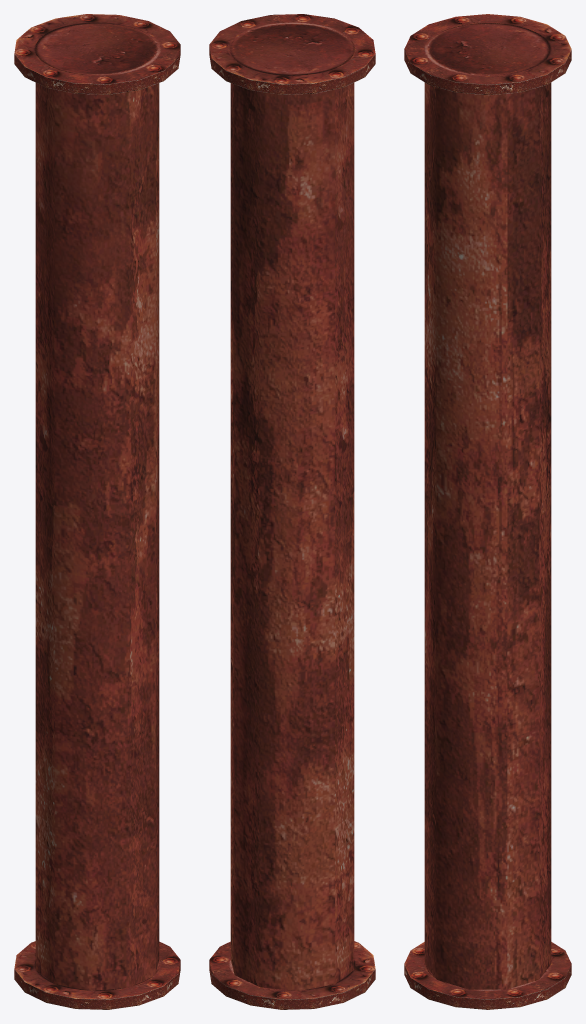
The model's file is 4m_red.DAE.
3 renders of one model, left to right at view 1: azimuth 30°, elevation 25°; view 2: azimuth 150°, elevation 25°; view 3: azimuth 270°, elevation 25°, orthographic.
Parts seen in each view (by area): view 1: Object540, Object541; view 2: Object540, Object541; view 3: Object540, Object541.
Boxes of the visible parts, left/top/right/bottom form: Object540: left=35, top=83, right=159, bottom=990; Object541: left=14, top=14, right=180, bottom=1009; Object540: left=230, top=83, right=354, bottom=990; Object541: left=209, top=14, right=375, bottom=1009; Object540: left=424, top=82, right=551, bottom=989; Object541: left=404, top=14, right=571, bottom=1009.
Bounding box in the file's own units: 0.6566 × 0.6566 × 4.
